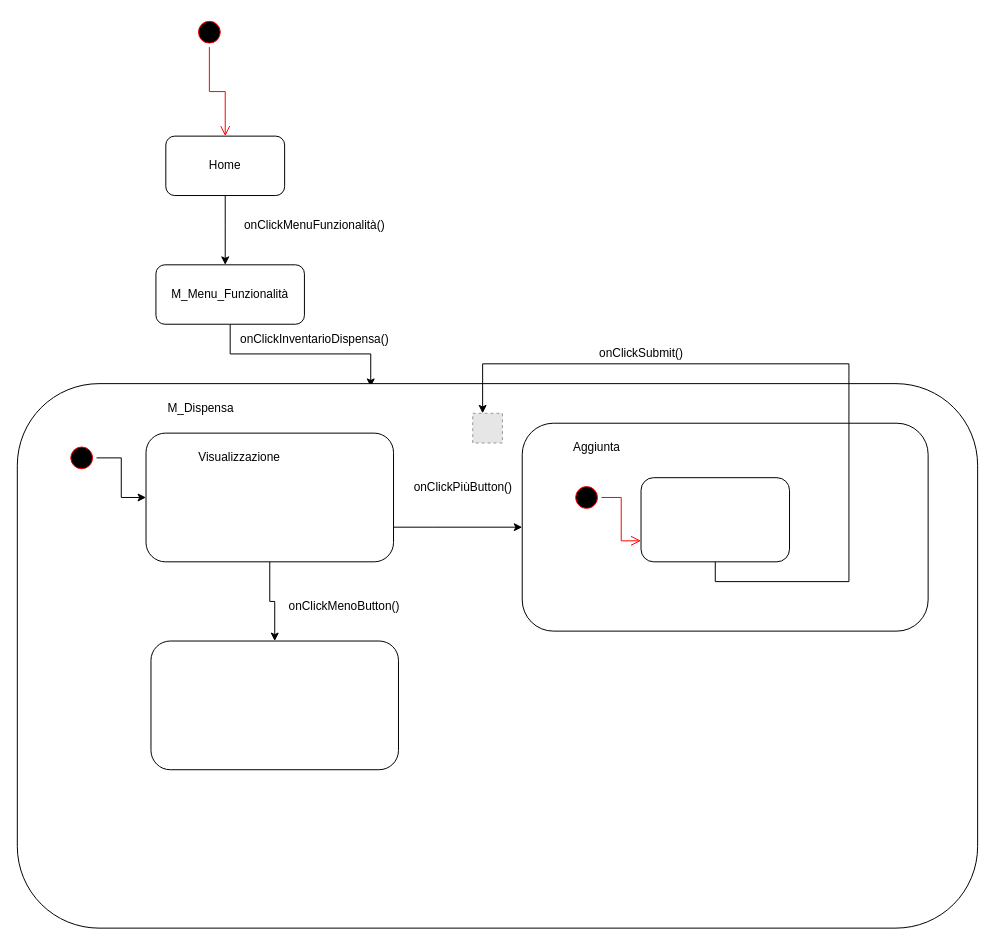
This 995x945 diagram has some shape labels left out. Grey dashed boxes stand in for pictures. The shapes that lost their labels are listed below. From the top down, each one's centre as x and y in pixels, then its label:
(x=715, y=519): Compila Form
(x=274, y=705): Rimozione
